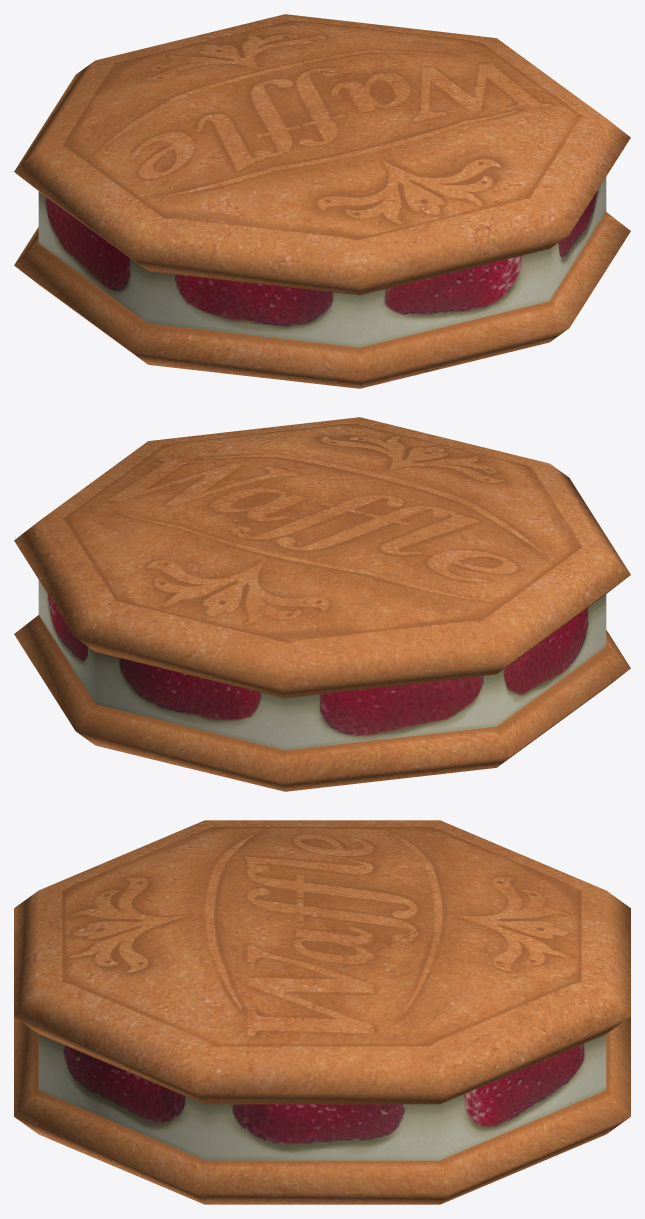
The model's file is Waffle.fbx.
3 renders of one model, top to bottom at view 1: azimuth 30°, elevation 25°; view 2: azimuth 150°, elevation 25°; view 3: azimuth 270°, elevation 25°, orthographic. The views are drawn at different scales.
Visible parts, largest first — view 1: Empty_Mesh; view 2: Empty_Mesh; view 3: Empty_Mesh.
Part boxes in pixels (box(x1,y1,x2,y2)): Empty_Mesh: box(14, 14, 630, 388); Empty_Mesh: box(14, 417, 630, 791); Empty_Mesh: box(14, 820, 630, 1204).
Size of the model in its own units: 0.3788 by 0.1321 by 0.3788.
